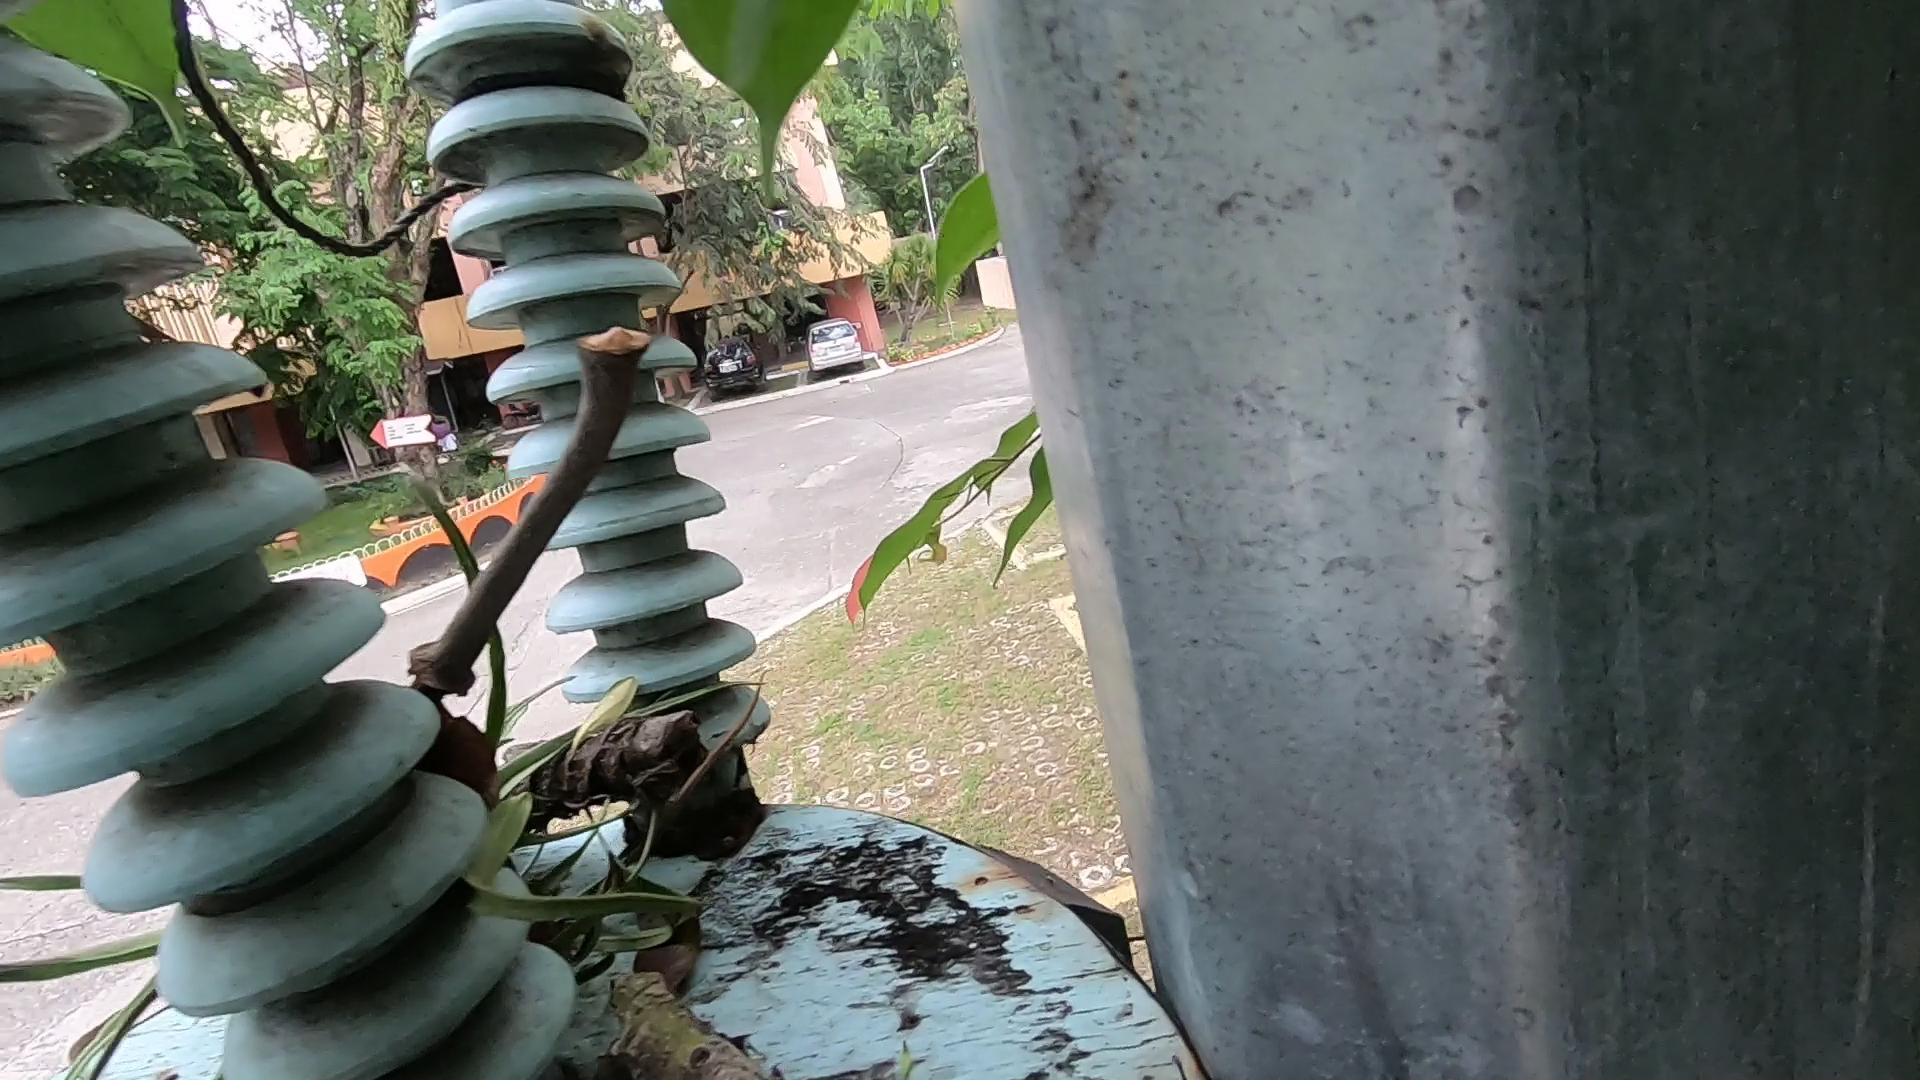branch with leaves: (372, 593, 866, 1080)
tree branch: (396, 301, 641, 785)
